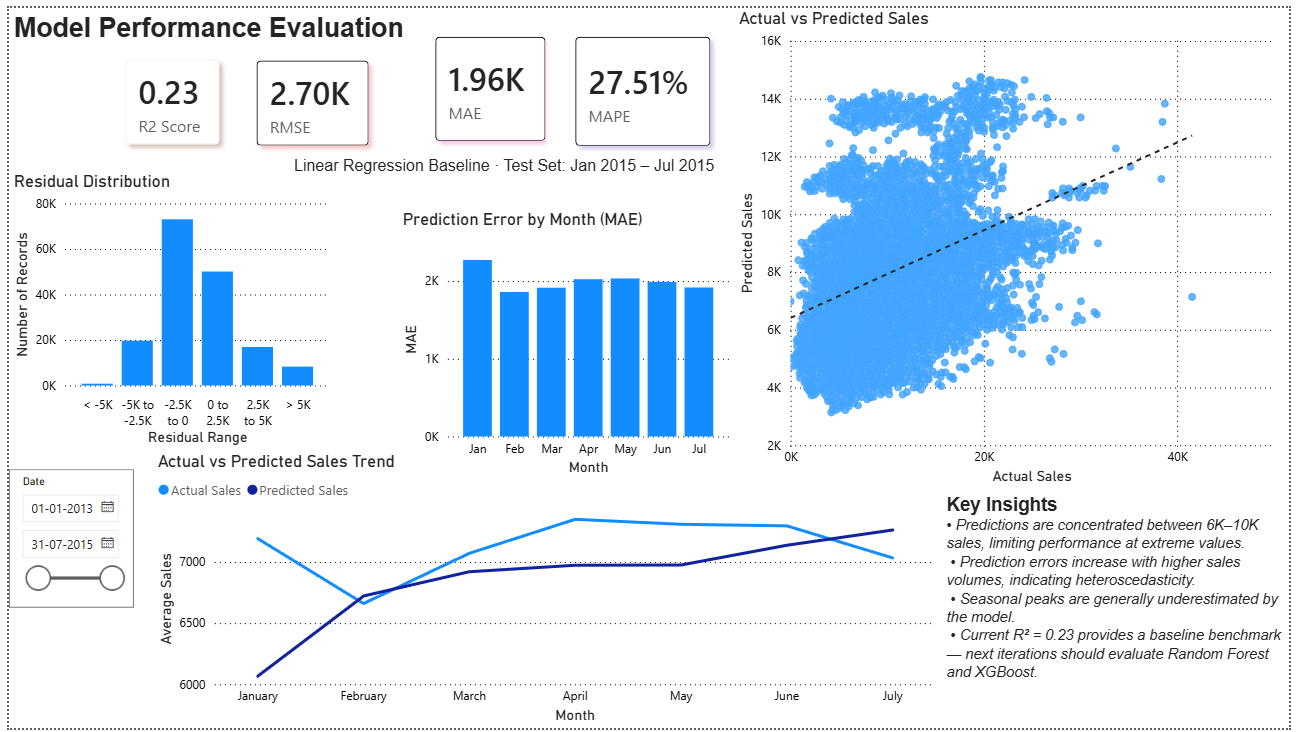

The dashboard page shown, as its layout file describes it:
{"tool":"powerbi","page":{"name":"Page 4","canvas":[1280,720],"ordinal":3},"visuals":[{"type":"slicer","fields":{"Values":["Calender.Date"]},"box":[0,461.2,125,138.8],"z":0},{"type":"cardVisual","fields":{"Data":["model_evaluation.R2 Score"]},"box":[87.5,22.5,152.5,143.8],"z":1},{"type":"cardVisual","fields":{"Data":["model_evaluation.MAE"]},"box":[397.5,0,168.8,162.5],"z":2},{"type":"cardVisual","fields":{"Data":["model_evaluation.Mean Prediction Error %"]},"box":[537.5,0,193.8,167.5],"z":3},{"type":"cardVisual","fields":{"Data":["model_evaluation.RMSE"]},"box":[218.8,23.8,170,143.8],"z":4},{"type":"lineChart","title":"Actual vs Predicted Sales Trend","fields":{"Category":["model_evaluation.Date.Variation.Date Hierarchy.Month"],"Y":["Avg(model_evaluation.Actual)","Avg(model_evaluation.Predicted)"]},"box":[143.8,442.5,787.5,277.5],"z":5},{"type":"scatterChart","title":"Actual vs Predicted Sales","fields":{"X":["model_evaluation.Actual"],"Y":["model_evaluation.Predicted"]},"box":[725,0,555,481.2],"z":6},{"type":"columnChart","title":"Residual Distribution","fields":{"Category":["model_evaluation.ResidualBin"],"Y":["CountNonNull(model_evaluation.Residual)"]},"box":[0,162.5,326.2,280],"z":7},{"type":"textbox","box":[932,481,348,239],"z":9},{"type":"columnChart","title":"Prediction Error by Month (MAE)","fields":{"Y":["model_evaluation.MAE"],"Category":["model_evaluation (2).MonthName"]},"box":[388.8,201.2,336.2,271.2],"z":10},{"type":"textbox","box":[0,0,421.2,42.5],"z":11},{"type":"textbox","box":[280,143.8,437.5,47.5],"z":12}]}

Visuals, with their boxes in screenshot pixels (x1, y1, x2, y2), scaled from the page's 1280x720 canvas onto the 1296x732 screenshot:
slicer - Calender.Date: [left=0, top=469, right=127, bottom=610]
cardVisual - model_evaluation.R2 Score: [left=89, top=23, right=243, bottom=169]
cardVisual - model_evaluation.MAE: [left=402, top=0, right=573, bottom=165]
cardVisual - model_evaluation.Mean Prediction Error %: [left=544, top=0, right=740, bottom=170]
cardVisual - model_evaluation.RMSE: [left=222, top=24, right=394, bottom=170]
"Actual vs Predicted Sales Trend" lineChart: [left=146, top=450, right=943, bottom=731]
"Actual vs Predicted Sales" scatterChart: [left=734, top=0, right=1295, bottom=489]
"Residual Distribution" columnChart: [left=0, top=165, right=330, bottom=450]
textbox: [left=944, top=489, right=1295, bottom=731]
"Prediction Error by Month (MAE)" columnChart: [left=394, top=205, right=734, bottom=480]
textbox: [left=0, top=0, right=426, bottom=43]
textbox: [left=284, top=146, right=726, bottom=194]
